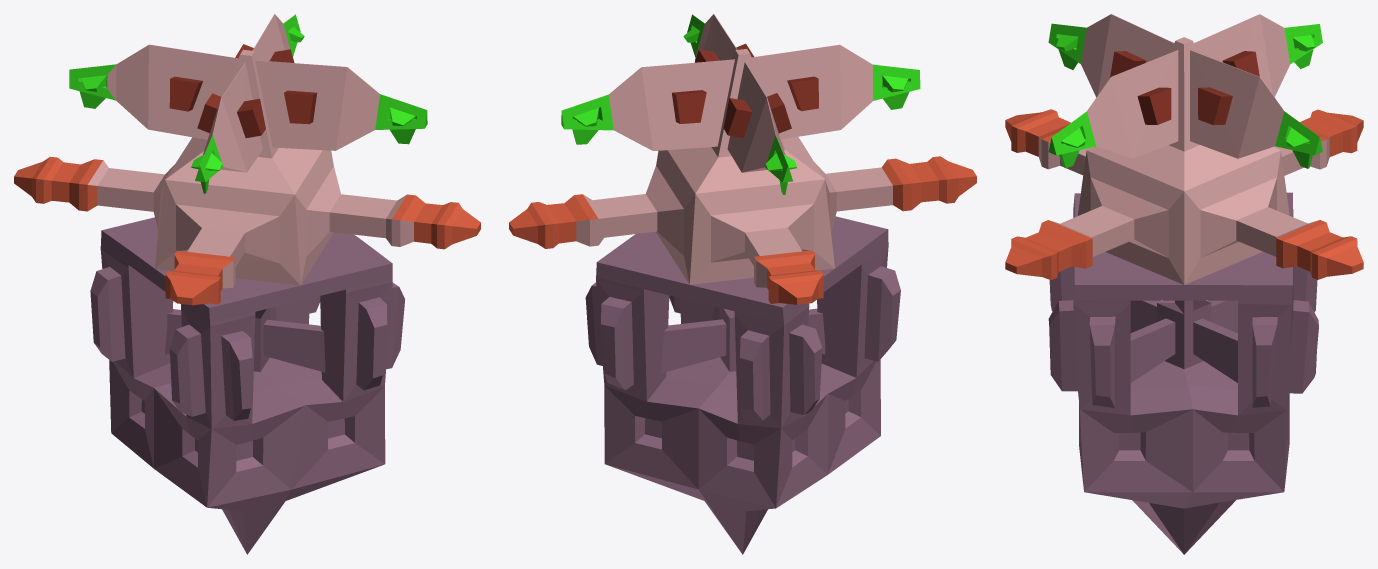
The model's file is groundBandit.glb.
3 renders of one model, left to right at view 1: azimuth 30°, elevation 25°; view 2: azimuth 150°, elevation 25°; view 3: azimuth 270°, elevation 25°, orthographic. The views are drawn at different scales.
Parts seen in each view (by area): view 1: Cube; view 2: Cube; view 3: Cube.
Boxes of the visible parts, x1=… form: Cube: x1=14, y1=14, x2=480, y2=554; Cube: x1=509, y1=14, x2=976, y2=554; Cube: x1=1005, y1=14, x2=1363, y2=554.
Size of the model in its own units: 3.3 by 5.22 by 3.29.
Materials: 1 (1 with a texture image).
